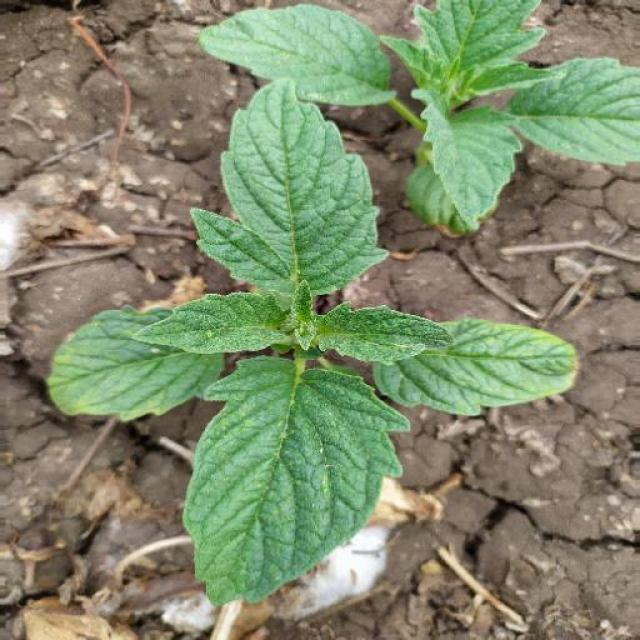crop: (44, 89, 584, 600), (182, 3, 640, 248)
